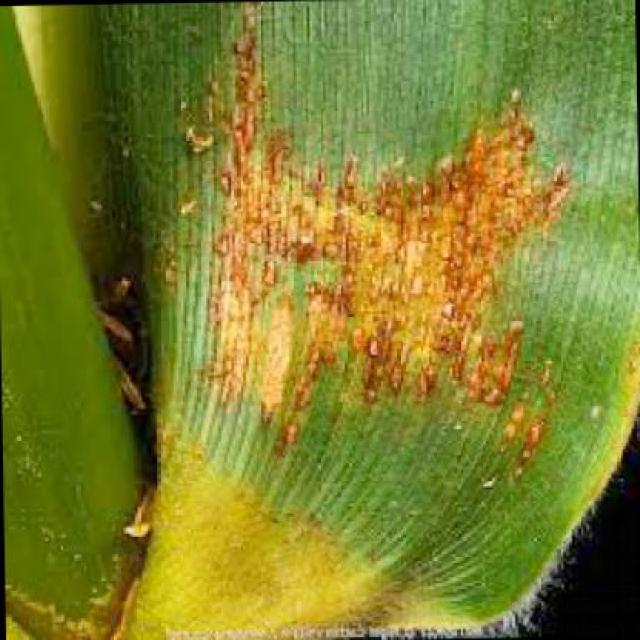Corn_Rust: (90, 11, 598, 503)
